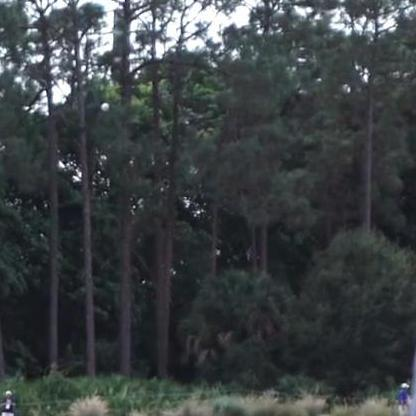golfball: (100, 100, 109, 110)
